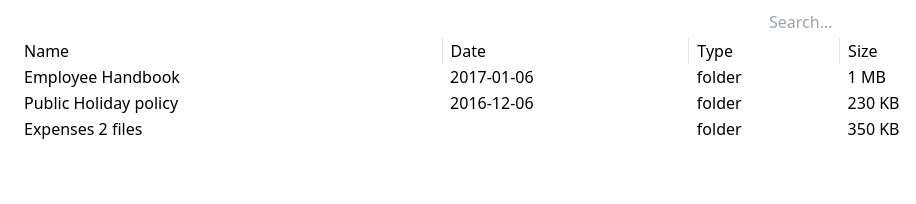
Test: Table component › expands sub-rows when clicked
# Click the "Expenses" row to expand it
Click the text "Expenses 2 files" at (83, 129), box [16, 116, 442, 142]
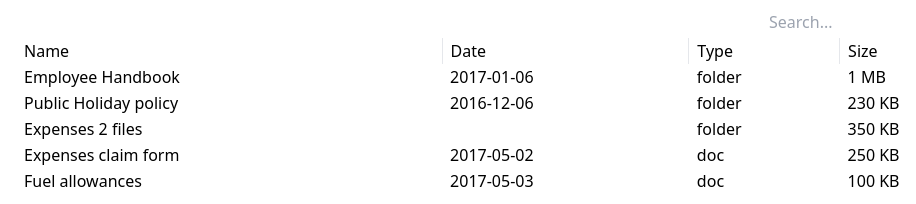
Result: the text "Expenses claim form" is shown at [16, 142, 442, 168]
Click the text "Expenses 2 files" at (83, 129), box [16, 116, 442, 142]
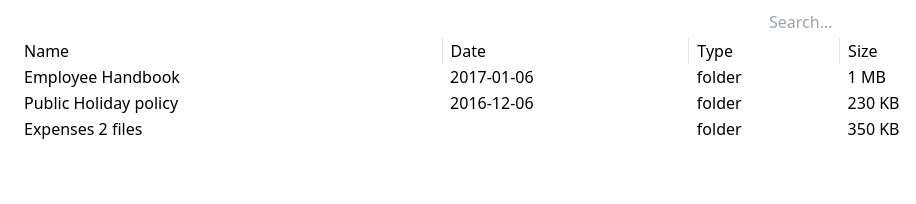
Result: the text "Expenses claim form" is gone
